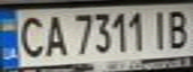1: (109, 9, 130, 53), (127, 8, 148, 52)
3: (90, 9, 115, 54)
7: (69, 10, 93, 56)
A: (39, 11, 69, 60)
B: (163, 7, 193, 51)
C: (12, 12, 48, 60)
I: (148, 7, 172, 51)
